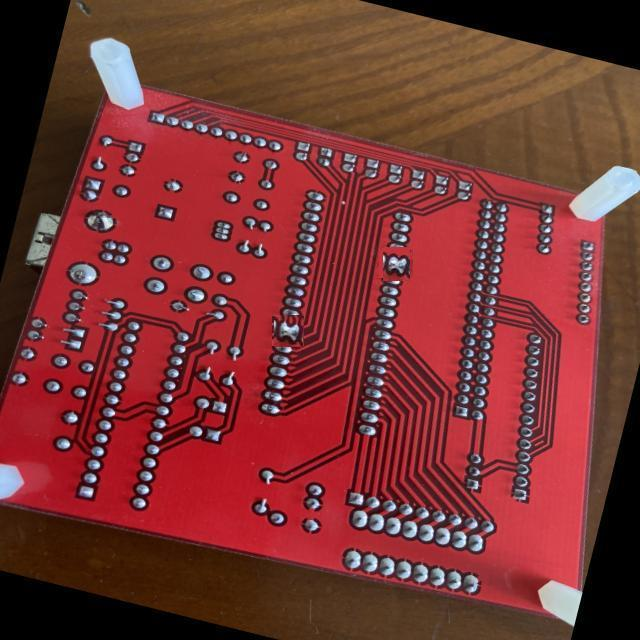damged: (381, 248, 412, 280), (273, 316, 303, 346)
